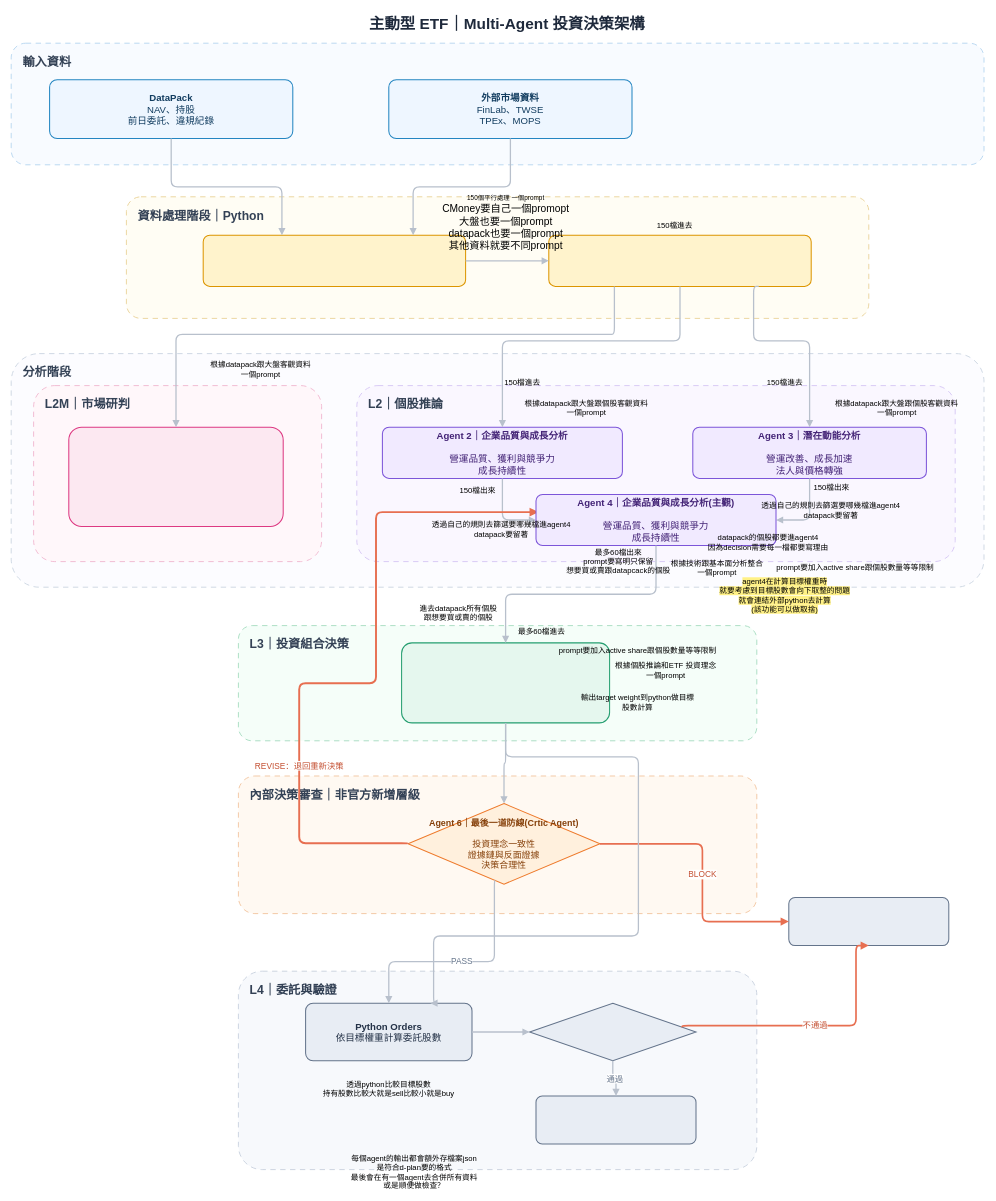
This 996x1201 diagram has some shape labels left out. The shapes that lost their labels are listed below. From the top down, each one's centre as x and y in pixels, then its label:
At [334,260]: "L0 Sources 來源 ID、機構、網址、資料時間".
At [679,260]: "L1 Observations 客觀數值、事實、source_ref".
At [175,476]: "Agent 1｜市場環境分析 市場風險與趨勢 資金環境 股票曝險及現金方向".
At [505,682]: "Agent 5｜ETF 基金經理人 整合市場與個股推論 BUY / ADD / TRIM / SELL 目標權重及不交易理由".
At [868,921]: "停止本輪提交".
At [612,1031]: "Python Validator JSON 與交易規則檢查".
At [615,1119]: "玉山平台 檢核與執行".
